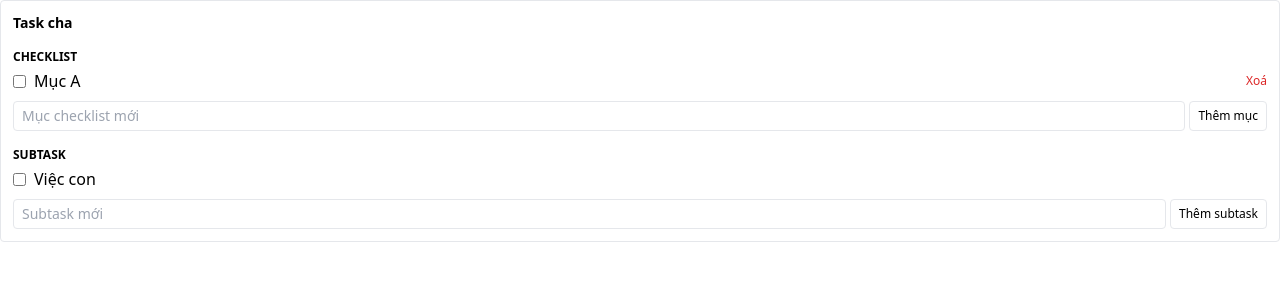
Test: TaskDetailPanel › rollback subtask khi action thất bại
Step 1. Click the checkbox named "Toggle subtask Việc con" → click(20, 179), box [13,172,26,186]
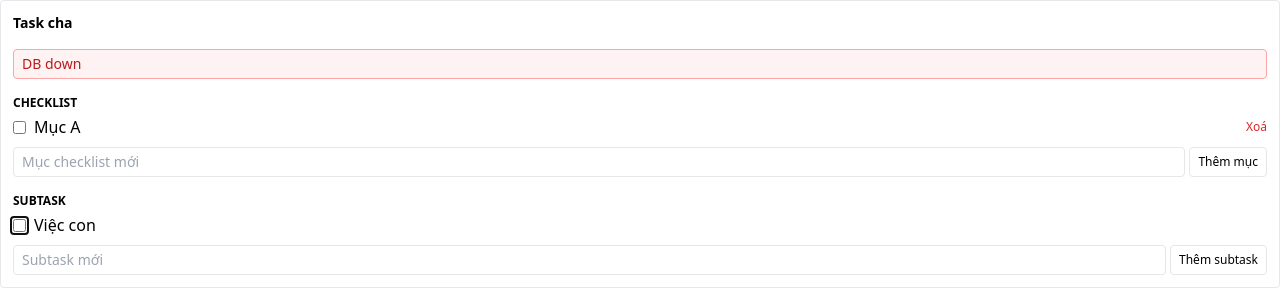
Expected: the checkbox named "Toggle subtask Việc con" is not checked, [13,218,26,232]
Now the message reads "DB down", box [22,54,81,73]
